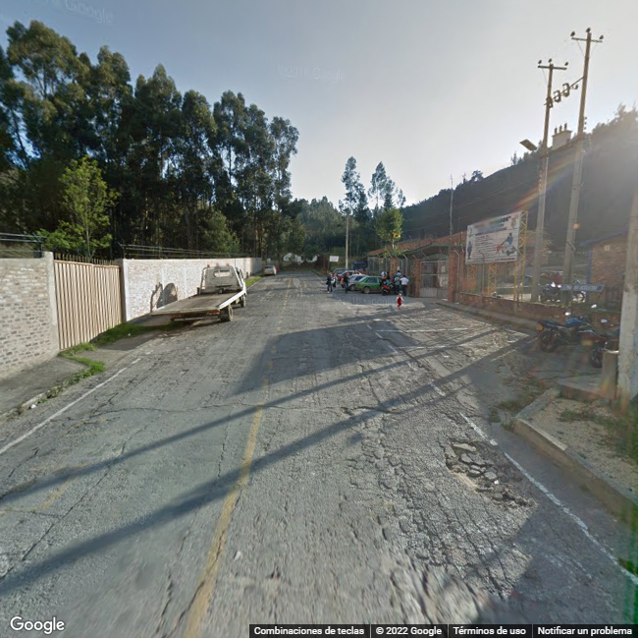D00: (2, 461, 116, 581), (170, 486, 247, 634), (462, 499, 528, 615), (448, 502, 505, 601), (213, 398, 239, 479), (157, 559, 175, 635)
D10: (4, 440, 44, 484), (2, 506, 64, 520)
D40: (443, 434, 526, 502)
